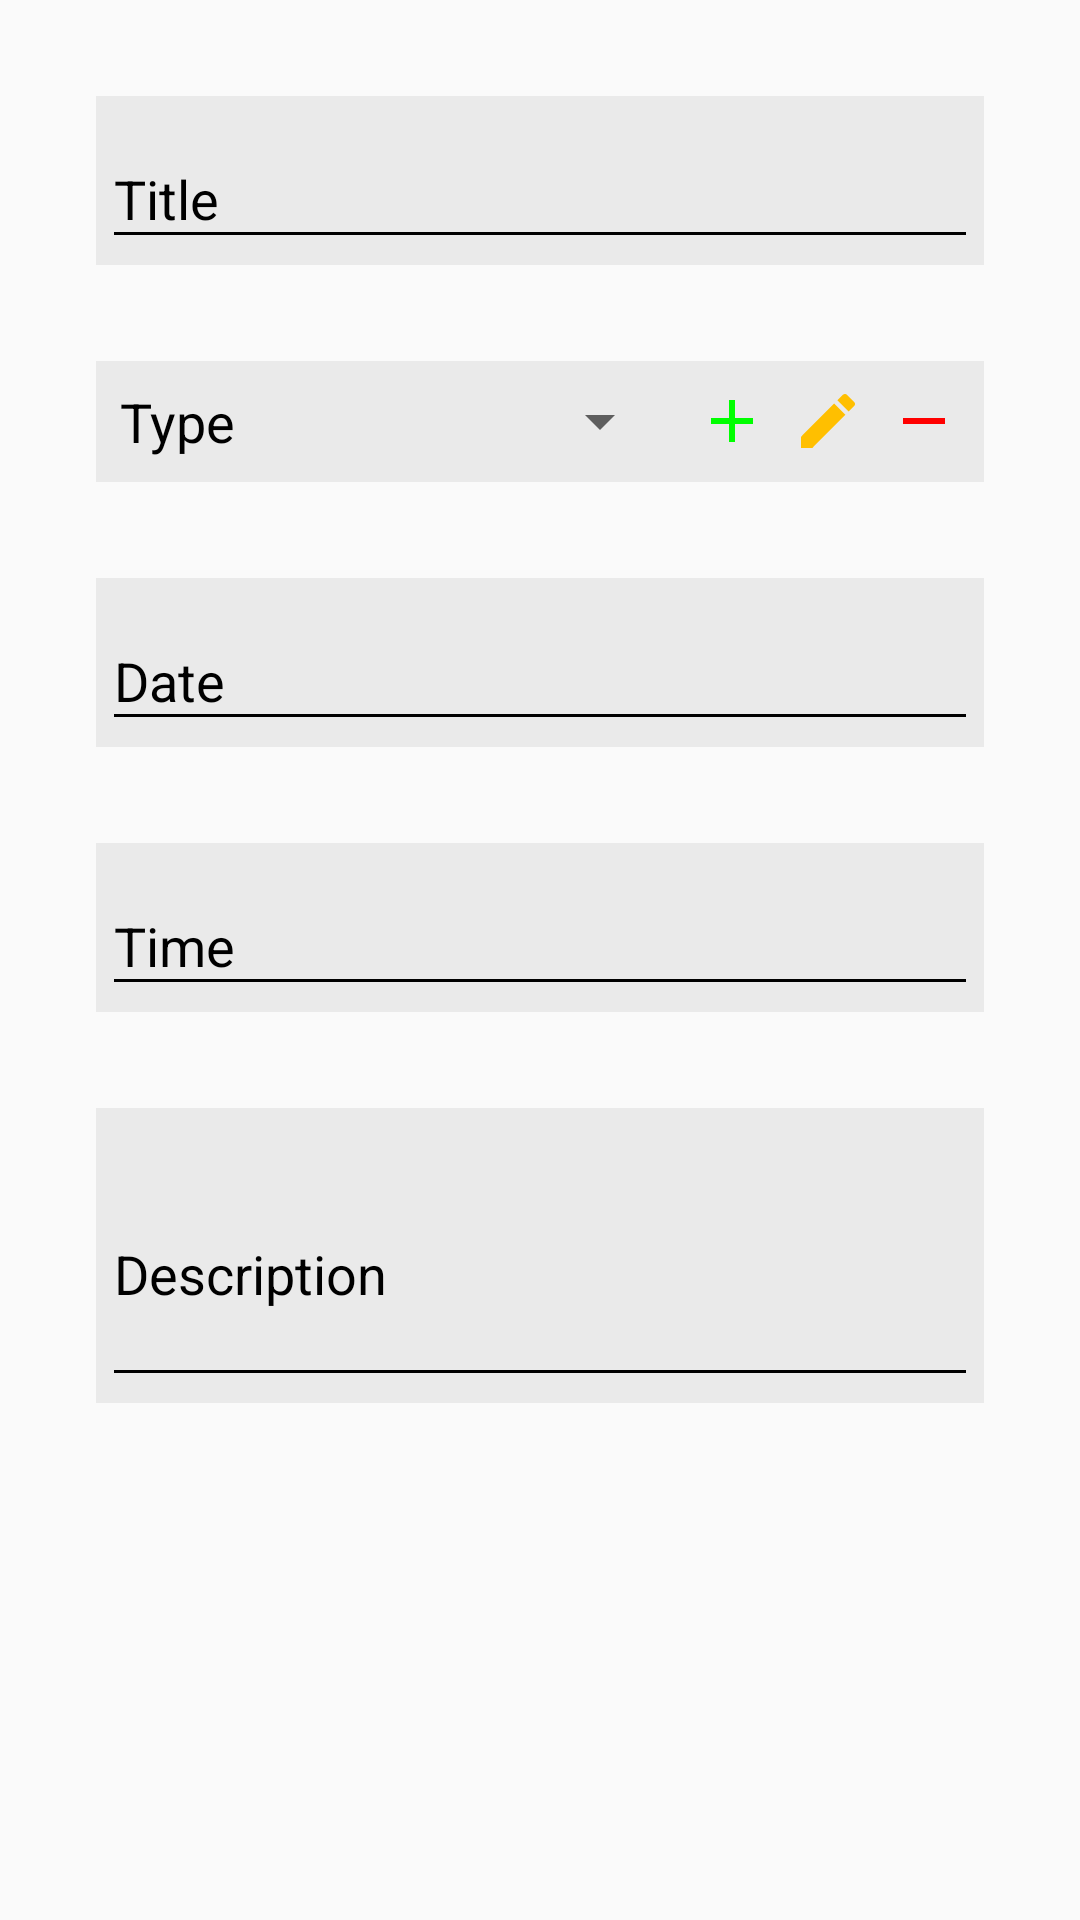

Icons on this 1080×1920 Android screen, each with the point to tap as (x=x, y=y):
Add task type: (x=732, y=421)
Edit task type: (x=828, y=421)
